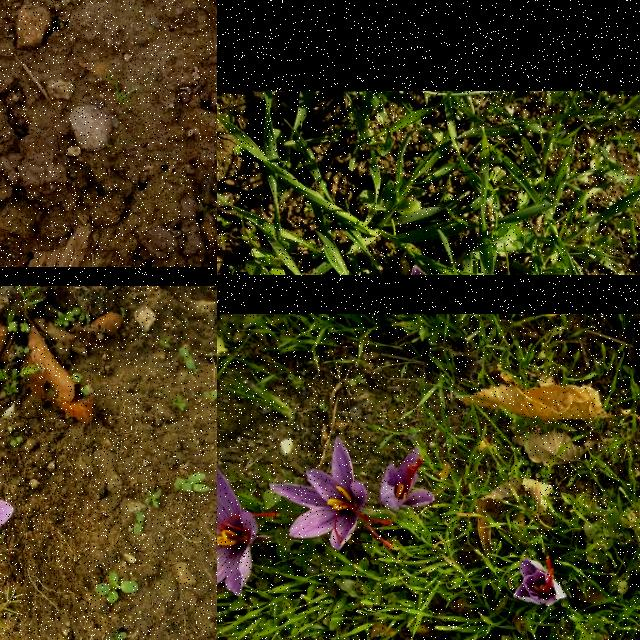flower: (268, 438, 394, 550), (217, 453, 280, 598), (380, 446, 436, 510), (514, 557, 568, 605)
